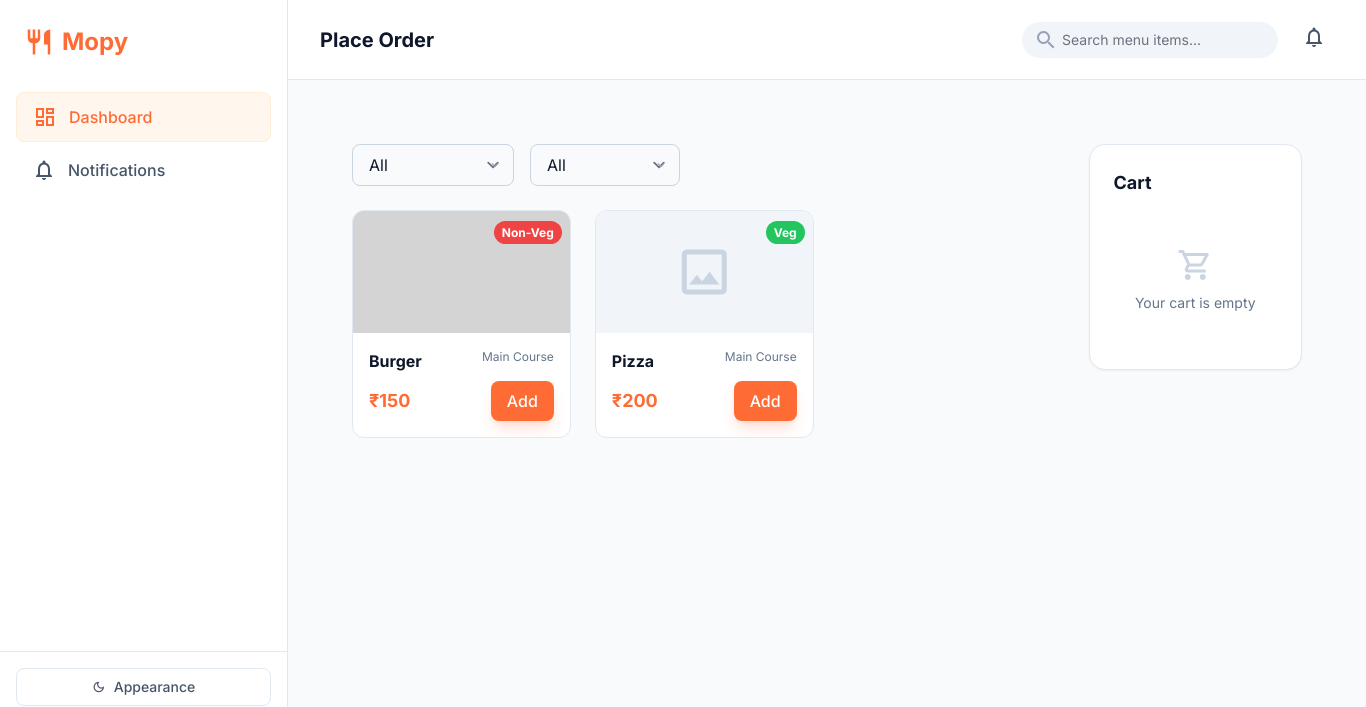
it: OrderPlacement Component › should calculate cart total correctly
Expected: the heading "Burger" is shown, [369,349,422,373]
# Add items to cart
Click the button "Add" next to "150" at (522, 401), box [491,381,554,421]
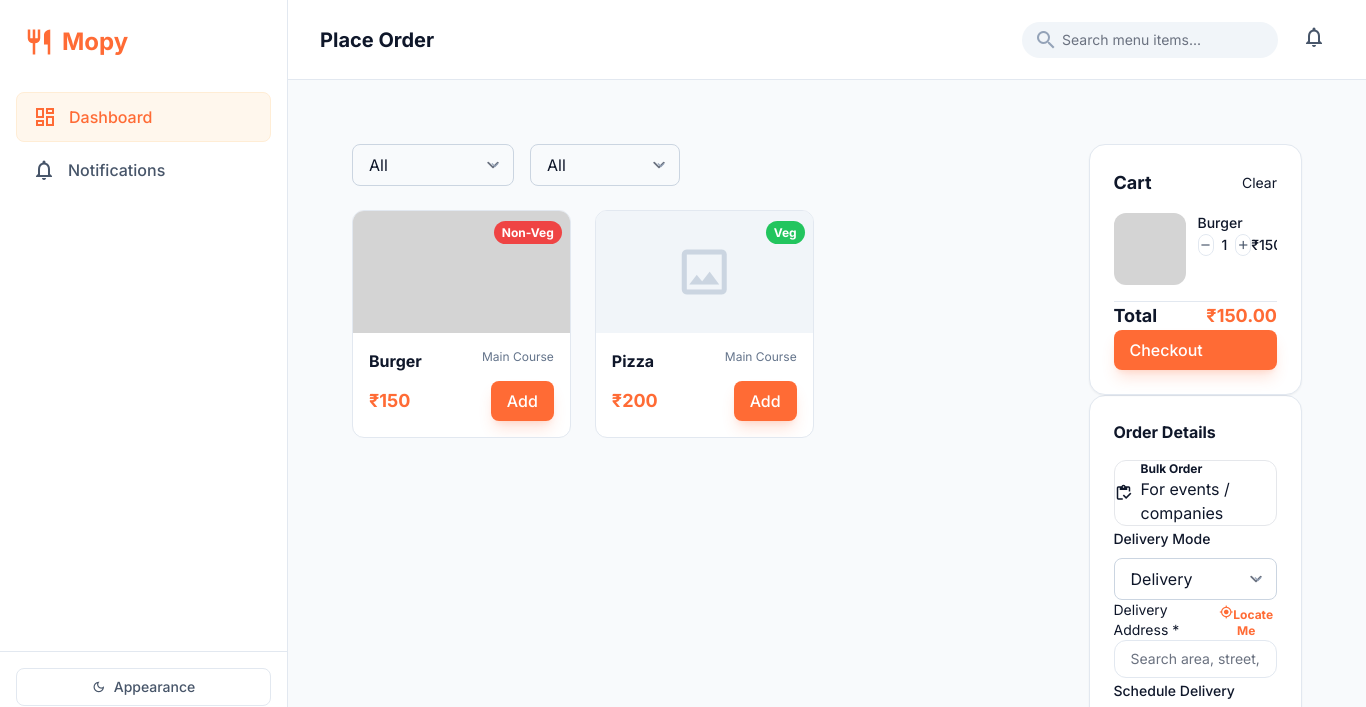
Click the button "Add" next to "200" at (765, 401), box [734,381,797,421]
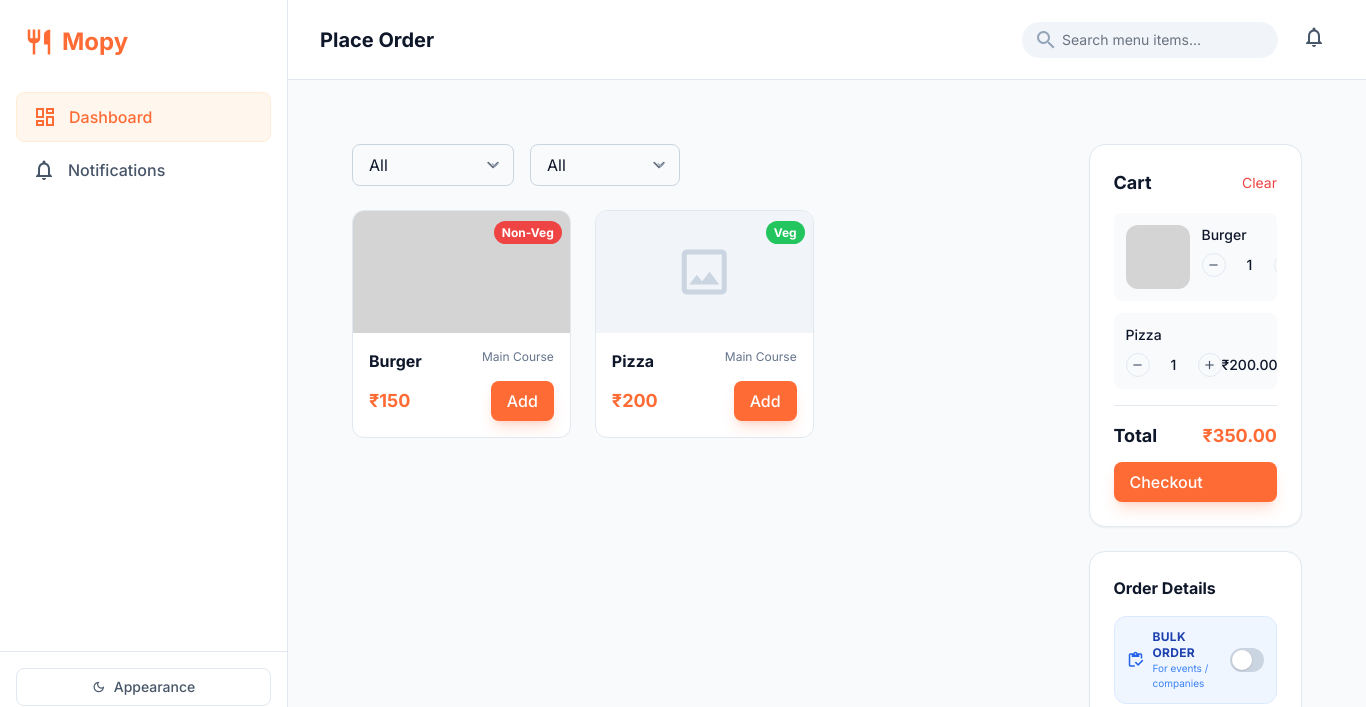
Expected: the text "₹350.00" is shown, [1202,422,1277,450]
